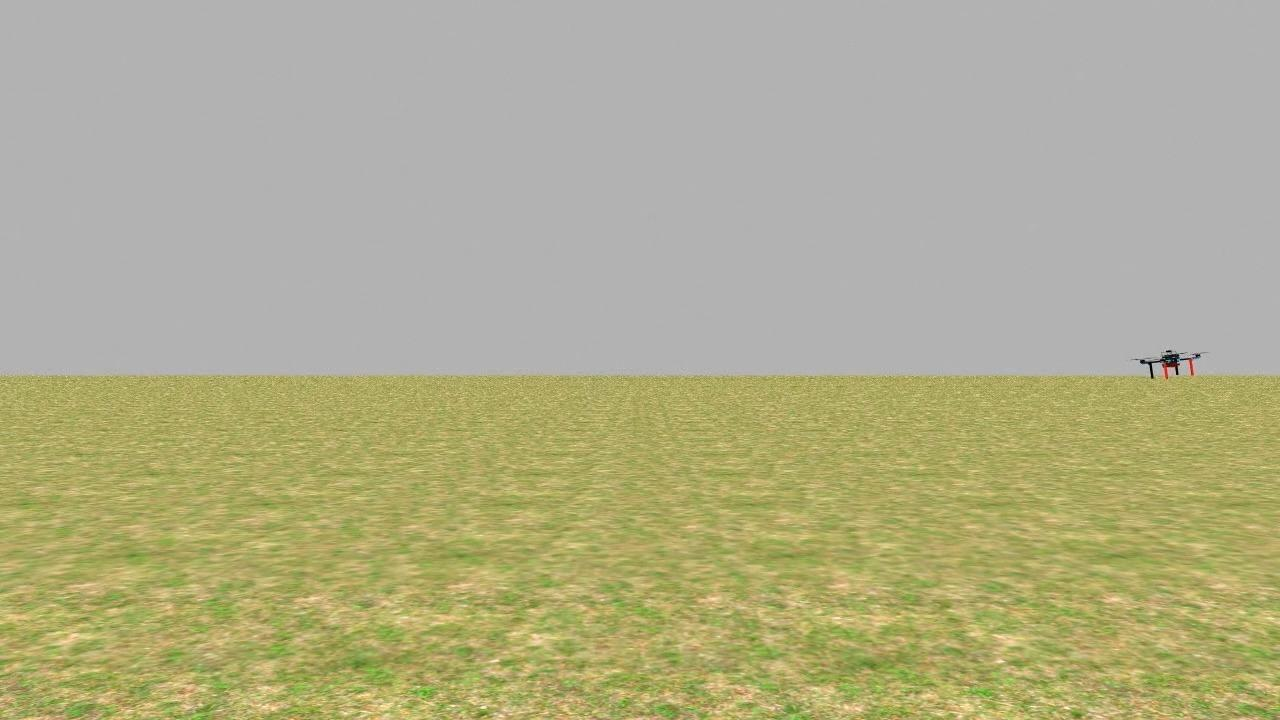UAV: (1134, 338, 1210, 384)
